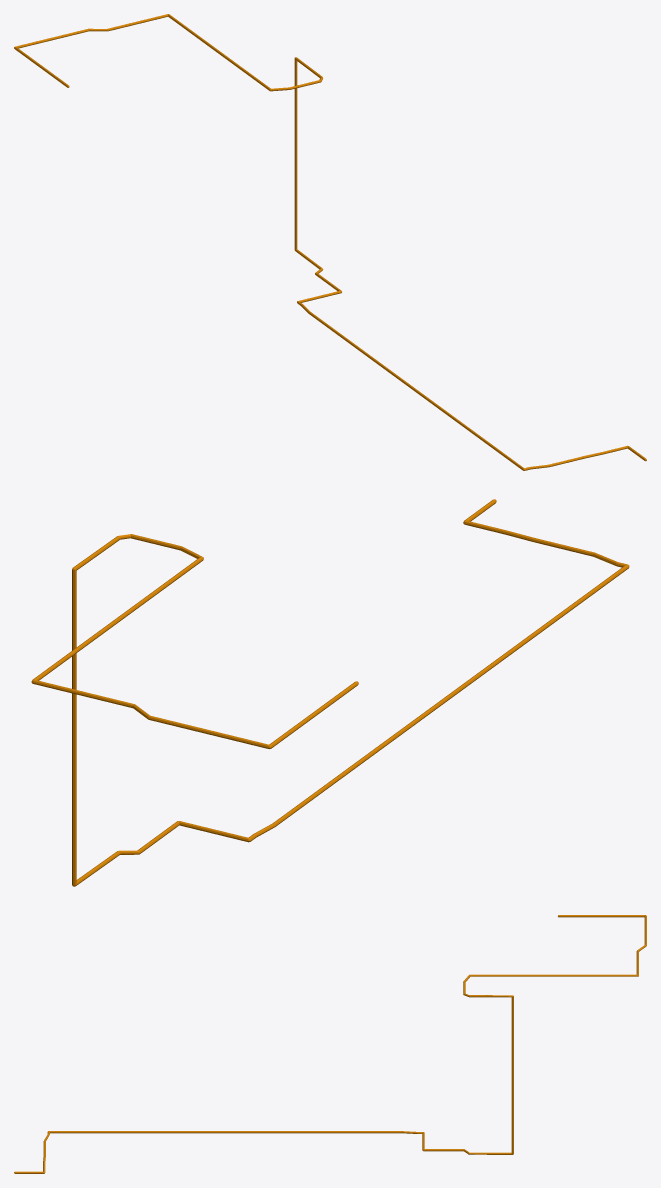
3 views of the same model, one above another, from view 1: azimuth 30°, elevation 25°; view 2: azimuth 150°, elevation 25°; view 3: azimuth 270°, elevation 25° (orthographic). The views are drawn at different scales.
Size of the model in its own units: 2043 by 1520 by 5463.
